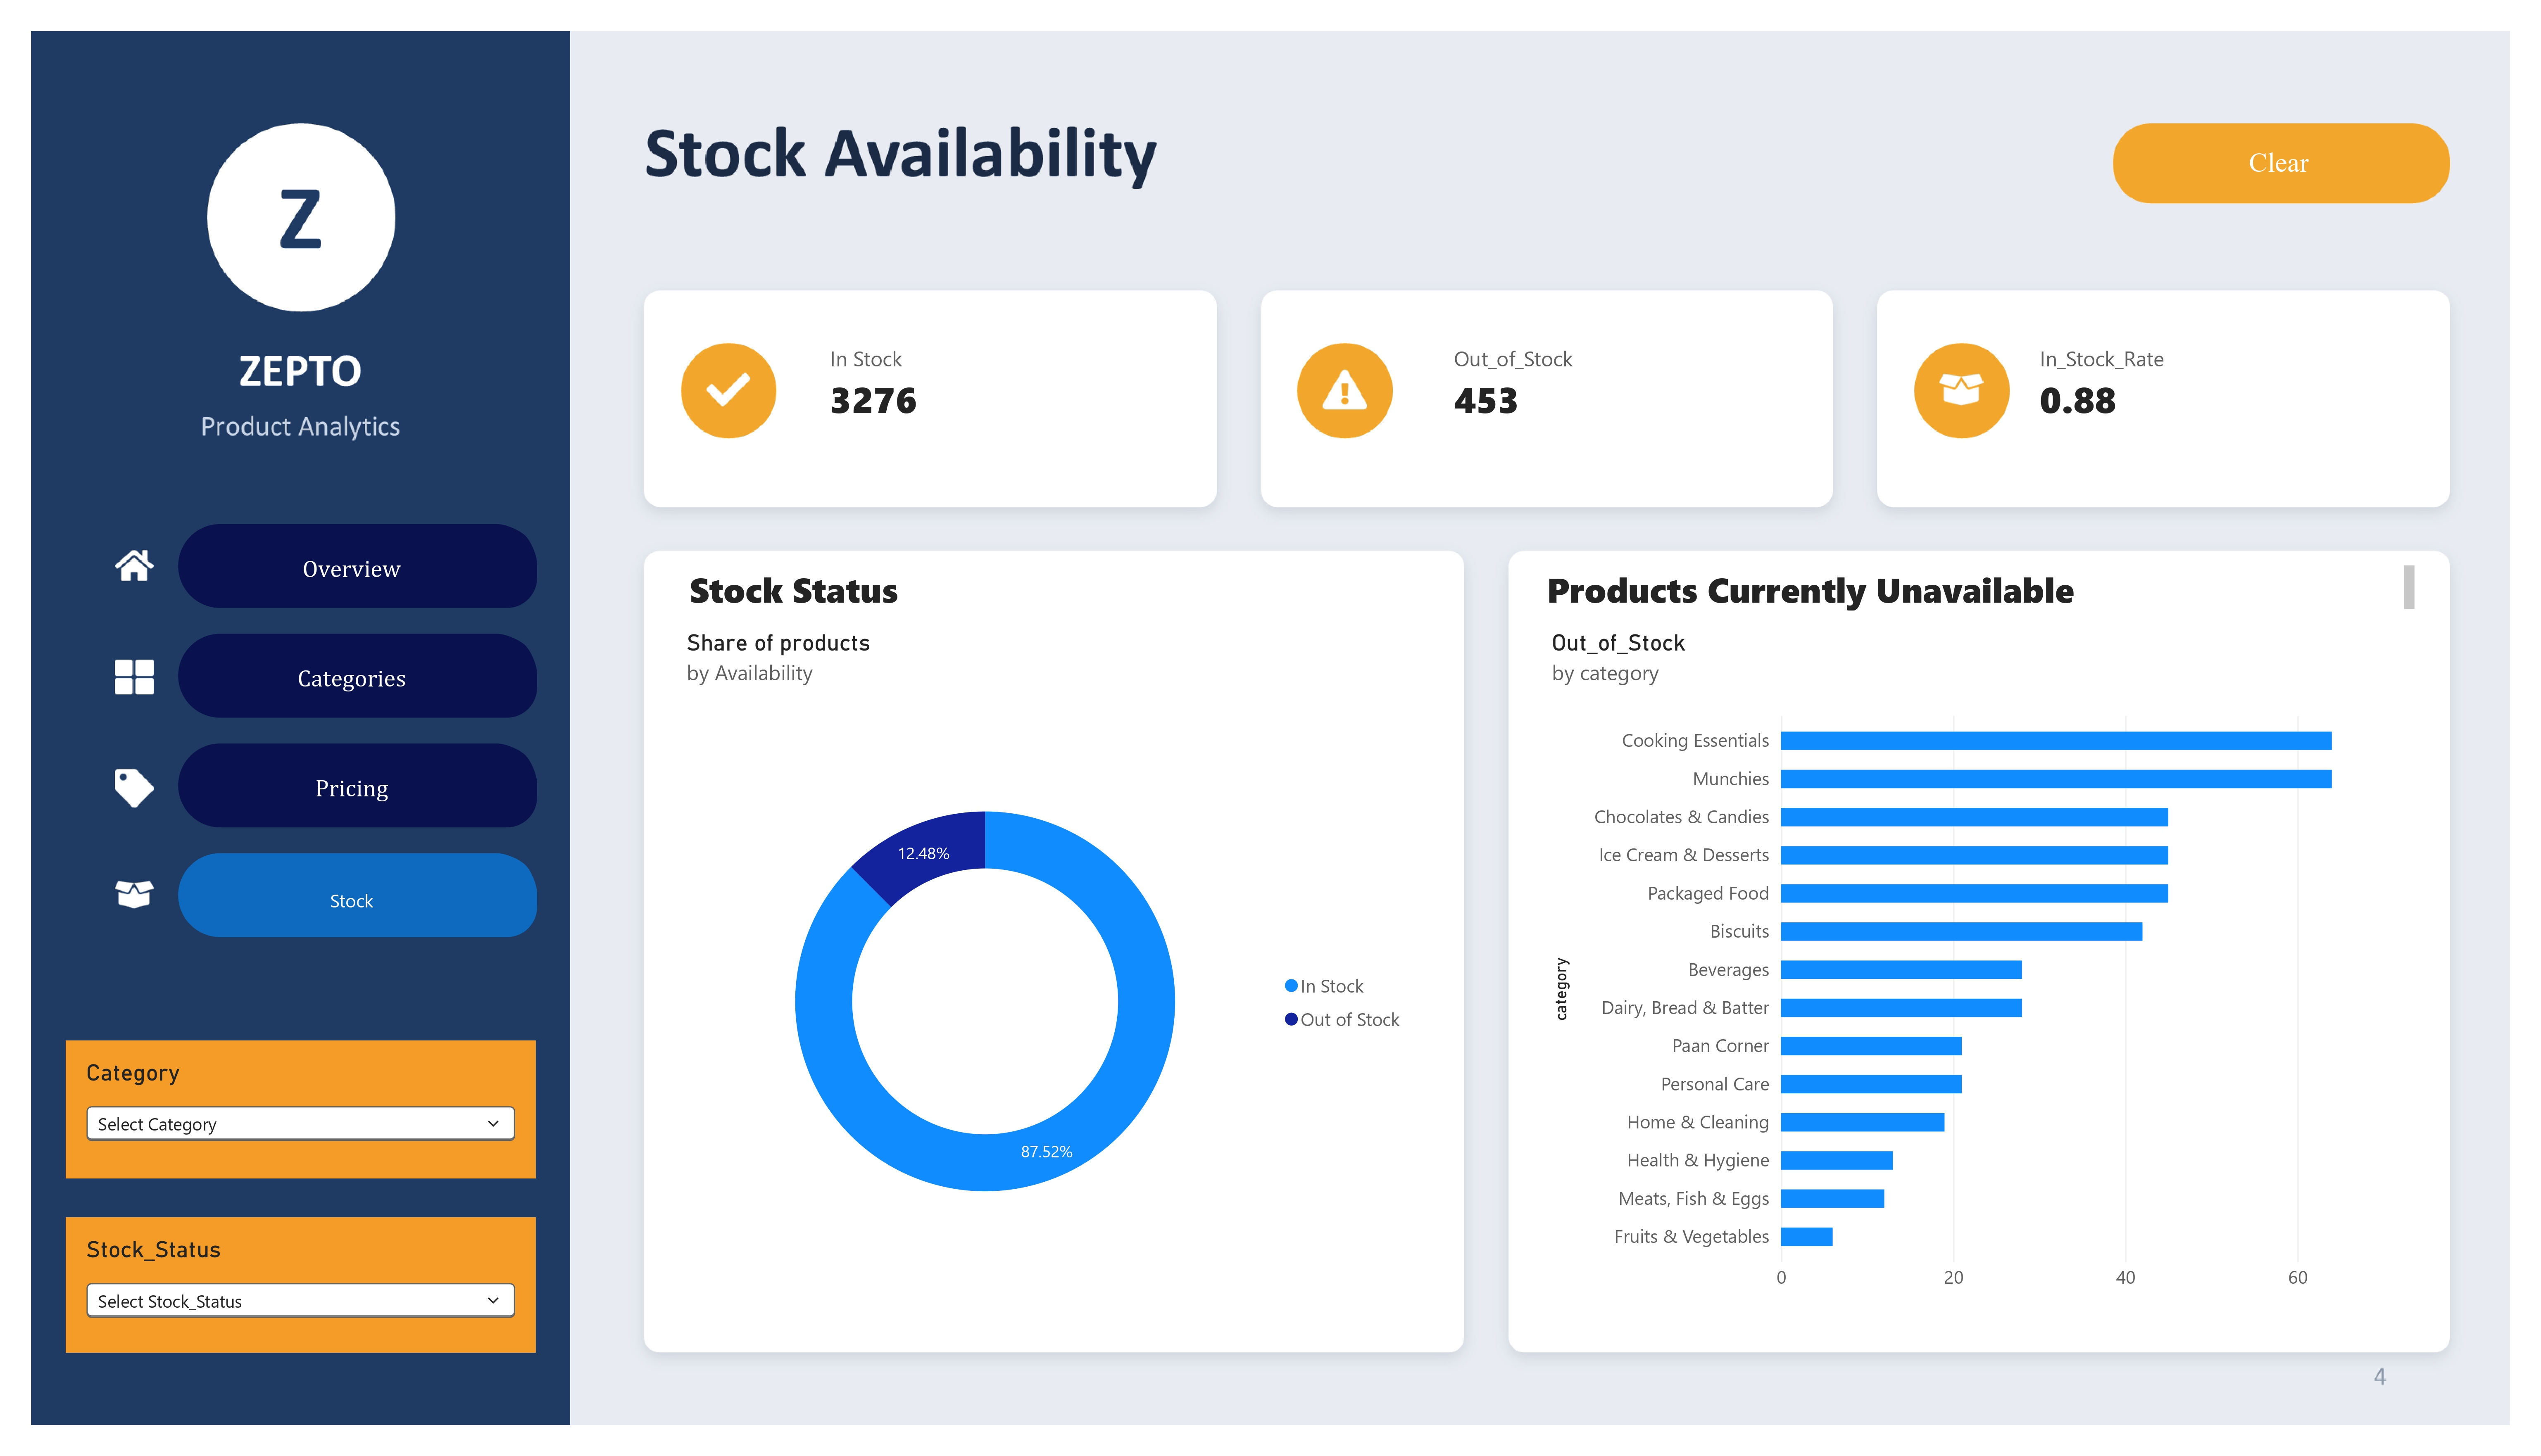

This screenshot's page, from the dashboard's own definition file:
{"tool":"powerbi","page":{"name":"Stock","canvas":[1920,1080],"ordinal":3},"visuals":[{"type":"actionButton","box":[1610.6,68.8,260.6,68.8],"z":0},{"type":"pageNavigator","box":[114,382,278,322],"z":1000},{"type":"cardVisual","fields":{"Data":["Count(zepto_cleaned)"]},"box":[602.6,215.3,186.4,117.6],"z":2000},{"type":"cardVisual","fields":{"Data":["Sum(zepto_cleaned.out_of_stock)"]},"box":[1085.8,229.8,152,88.7],"z":3000},{"type":"donutChart","fields":{"Category":["zepto_cleaned.stock_status"],"Y":["Sum(zepto_cleaned.product_id)"]},"box":[492.2,448.8,593.6,548.3],"z":4000},{"type":"textbox","box":[114,0,306,322],"z":5000},{"type":"textbox","box":[510.3,414.4,651.5,124.9],"z":6000},{"type":"clusteredBarChart","fields":{"Category":["zepto_cleaned.category"],"Y":["Sum(zepto_cleaned.out_of_stock)"]},"box":[1161.8,448.8,684.1,548.3],"z":7000},{"type":"textbox","box":[1174.5,414.4,671.4,34.4],"z":8000},{"type":"cardVisual","fields":{"Data":["zepto_cleaned.in_stock_rate"]},"box":[1540,228,155.6,92.3],"z":9000},{"type":"textbox","box":[1552.7,318.5,276.9,36.2],"z":10000},{"type":"listSlicer","fields":{"Values":["zepto_cleaned.category"]},"box":[27.1,781.8,363.7,106.8],"z":10001},{"type":"listSlicer","fields":{"Values":["zepto_cleaned.stock_status"]},"box":[27.1,919.3,363.7,105],"z":10002}]}

Visuals, with their boxes on the page's 1920x1080 design canvas (x1, y1, x2, y2). These are canvas units, not pixel positions in the 2541x1456 screenshot, which may show the page scaled, cropped or inside an application window:
actionButton: Rect(1611, 69, 1871, 138)
pageNavigator: Rect(114, 382, 392, 704)
cardVisual - Count(zepto_cleaned): Rect(603, 215, 789, 333)
cardVisual - Sum(zepto_cleaned.out_of_stock): Rect(1086, 230, 1238, 318)
donutChart - zepto_cleaned.stock_status x Sum(zepto_cleaned.product_id): Rect(492, 449, 1086, 997)
textbox: Rect(114, 0, 420, 322)
textbox: Rect(510, 414, 1162, 539)
clusteredBarChart - zepto_cleaned.category x Sum(zepto_cleaned.out_of_stock): Rect(1162, 449, 1846, 997)
textbox: Rect(1174, 414, 1846, 449)
cardVisual - zepto_cleaned.in_stock_rate: Rect(1540, 228, 1696, 320)
textbox: Rect(1553, 318, 1830, 355)
listSlicer - zepto_cleaned.category: Rect(27, 782, 391, 889)
listSlicer - zepto_cleaned.stock_status: Rect(27, 919, 391, 1024)
